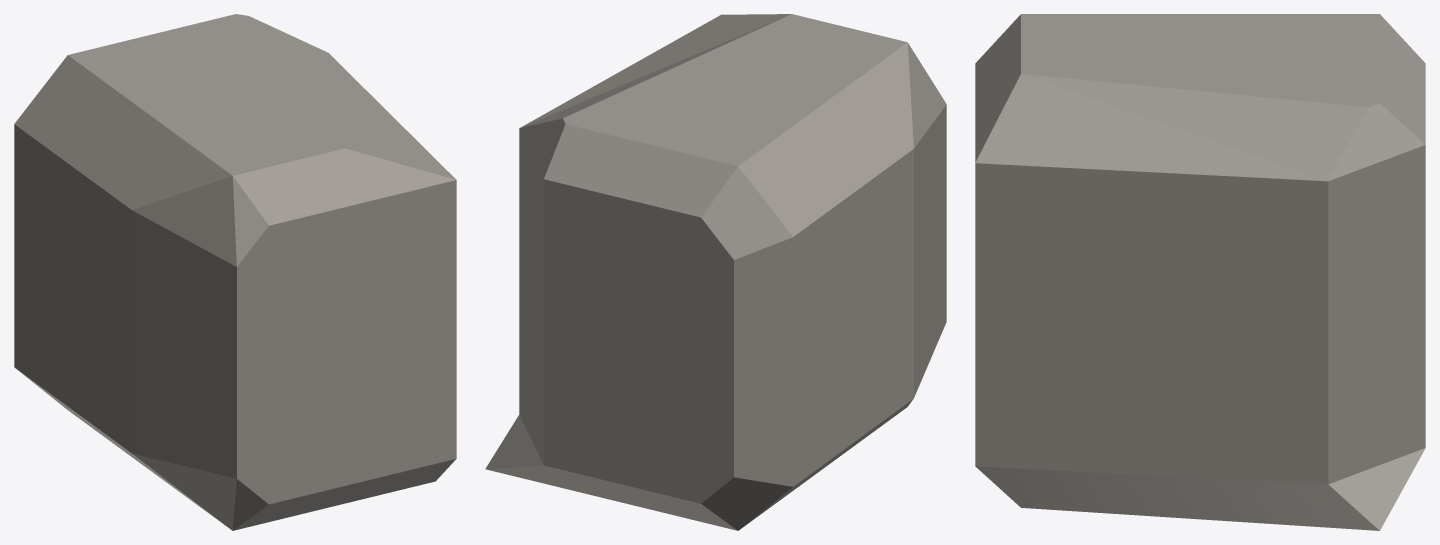
File: Brick 03.FBX
3 views of the same model, side by side, from view 1: azimuth 30°, elevation 25°; view 2: azimuth 150°, elevation 25°; view 3: azimuth 270°, elevation 25° (orthographic). The views are drawn at different scales.
Parts seen in each view (by area): view 1: Brick 03; view 2: Brick 03; view 3: Brick 03.
Boxes of the visible parts, x1=… form: Brick 03: x1=14, y1=14, x2=456, y2=530; Brick 03: x1=485, y1=14, x2=946, y2=530; Brick 03: x1=975, y1=14, x2=1425, y2=530.
Bounding box in the file's own units: 29.6 × 33.5 × 35.42.
1 material, 1 textured.
